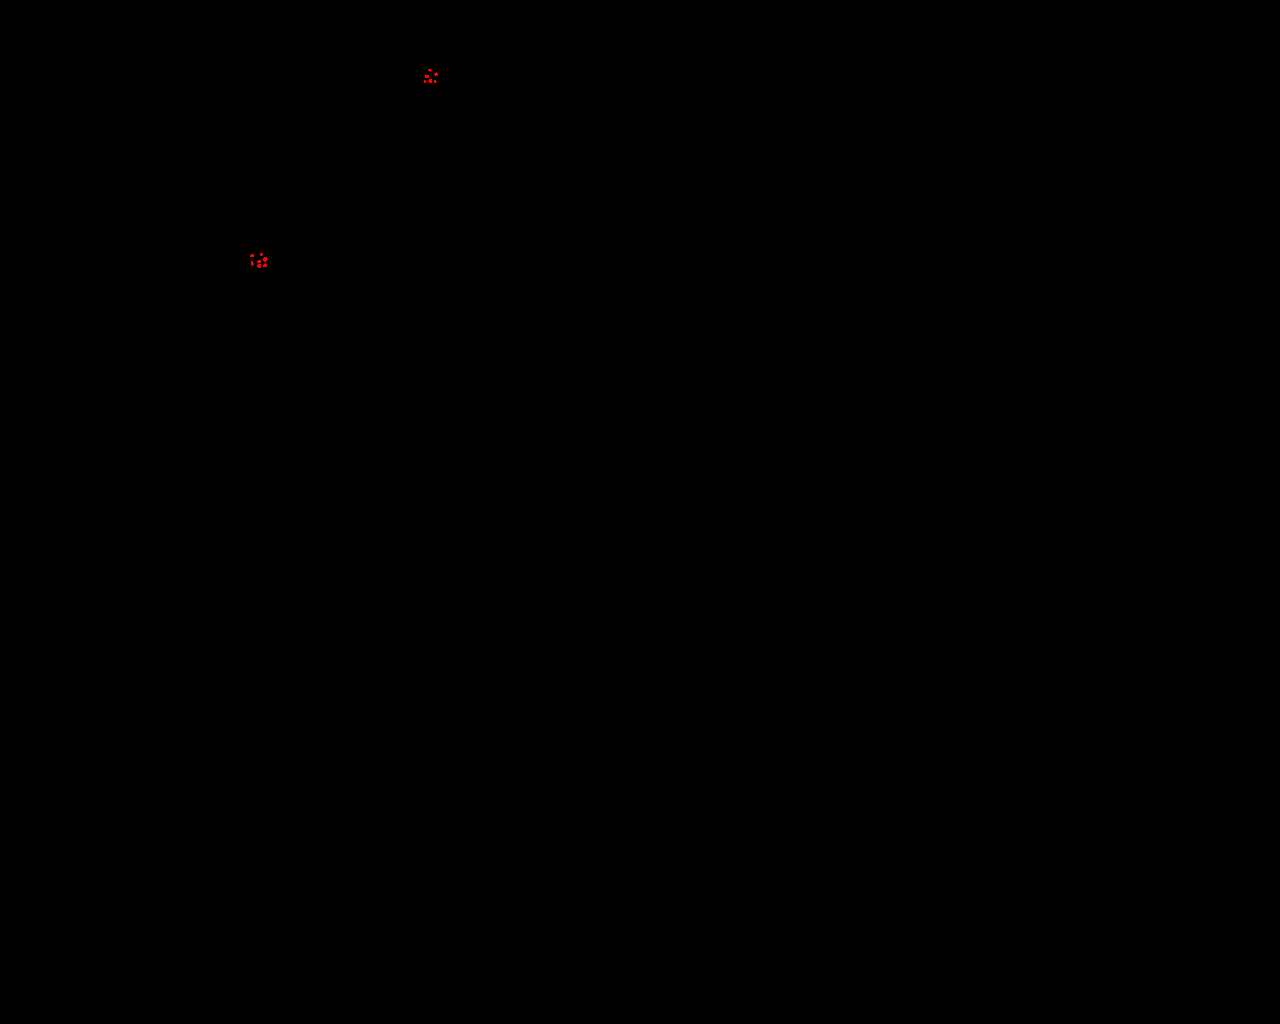Target: (263, 257, 267, 262), (434, 72, 438, 76), (263, 263, 267, 267), (251, 261, 254, 266), (425, 75, 429, 78), (250, 254, 254, 257), (257, 260, 261, 263), (257, 264, 261, 267), (428, 69, 432, 72), (428, 79, 432, 83), (260, 253, 263, 256), (424, 80, 427, 83), (434, 80, 437, 83)
